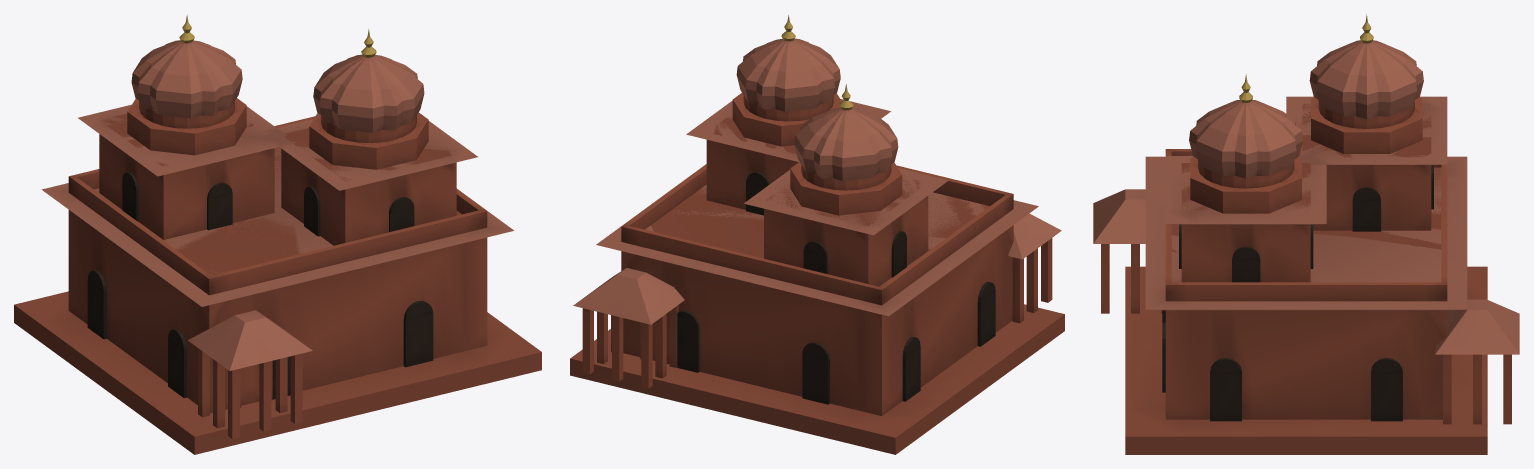
The model's file is birbal-house.glb.
The picture shows the model from 3 angles, left to right: view 1: azimuth 30°, elevation 25°; view 2: azimuth 150°, elevation 25°; view 3: azimuth 270°, elevation 25°; orthographic projection. The views are drawn at different scales.
Parts seen in each view (by area): view 1: p0_ground storey, p1_porches and upper rooms, p2_domes; view 2: p0_ground storey, p1_porches and upper rooms, p2_domes; view 3: p0_ground storey, p1_porches and upper rooms, p2_domes.
Boxes of the visible parts, x1,y1,x2,y2 form: p0_ground storey: (14,116,541,454); p1_porches and upper rooms: (78,104,477,439); p2_domes: (127,14,428,169); p0_ground storey: (570,164,1064,454); p1_porches and upper rooms: (573,99,1061,388); p2_domes: (732,15,902,215); p0_ground storey: (1125,149,1487,454); p1_porches and upper rooms: (1093,96,1519,424); p2_domes: (1189,14,1423,213).
Size of the model in its own units: 20 by 17.9 by 21.2.
